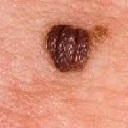Wart: (48, 21, 104, 77)
